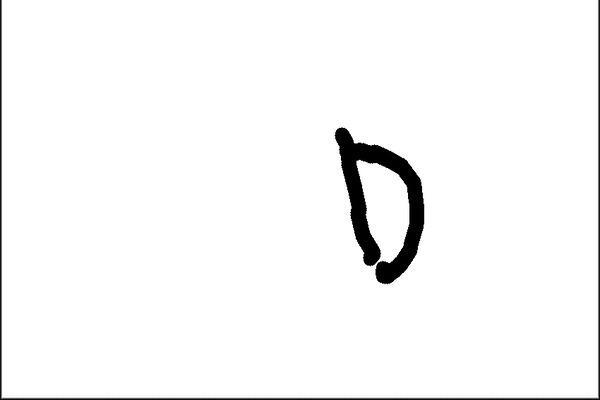D: (331, 121, 434, 286)
